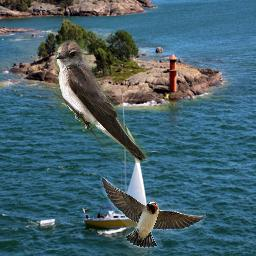Swallow: (55, 40, 149, 163), (100, 175, 206, 248)
